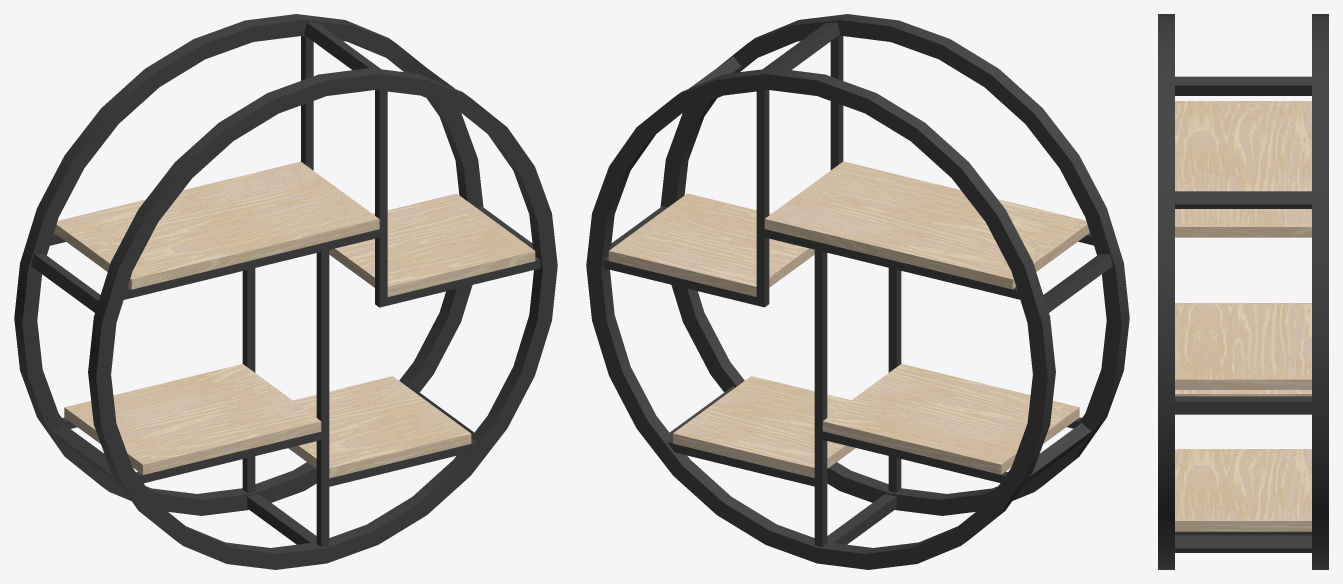
Rendered from shelf_002.fbx.
3 views of the same model, side by side, from view 1: azimuth 30°, elevation 25°; view 2: azimuth 150°, elevation 25°; view 3: azimuth 270°, elevation 25° (orthographic). The views are drawn at different scales.
Visible parts, largest first — view 1: shelf_002; view 2: shelf_002; view 3: shelf_002.
Boxes of the visible parts, x1,y1,x2,y2 form: shelf_002: (14,14,557,569); shelf_002: (586,14,1129,569); shelf_002: (1158,14,1328,569).
Size of the model in its own units: 176 by 54.11 by 176.
